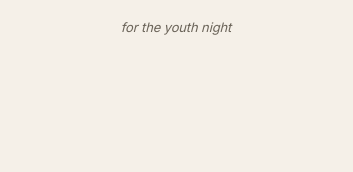
DedicationLine — the quiet header line › renders a set dedication as muted prose, and clearing returns to invisible
Click the button "for the youth night" at (176, 28), box [113,12,239,44]
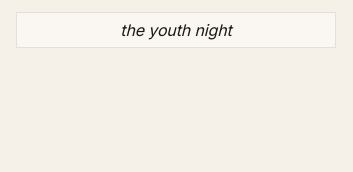
Clear the field named "song dedication" at (176, 30), box [16,12,336,48]
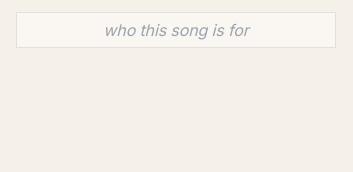
Press Enter in the field named "song dedication", box [16,12,336,48]
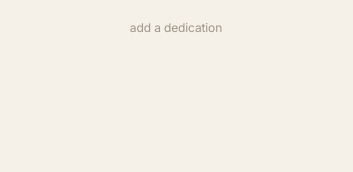
expect the button "add a dedication" is shown: met, box [122,12,230,44]
